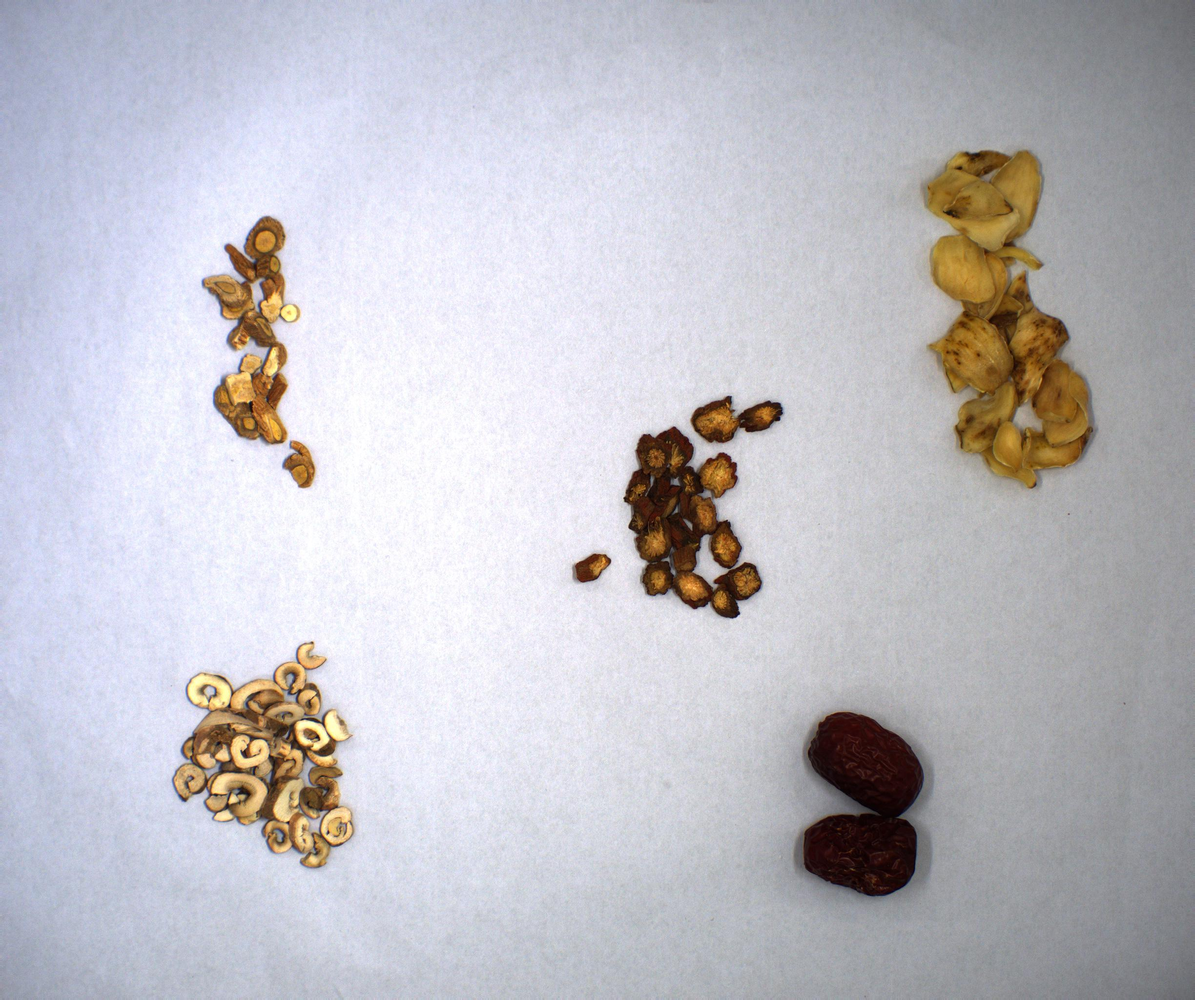baihe: (916, 144, 1099, 498)
banlangen: (194, 211, 322, 492)
danshen: (569, 391, 785, 622)
dazao: (798, 705, 935, 901)
mudanpi: (165, 638, 357, 874)
